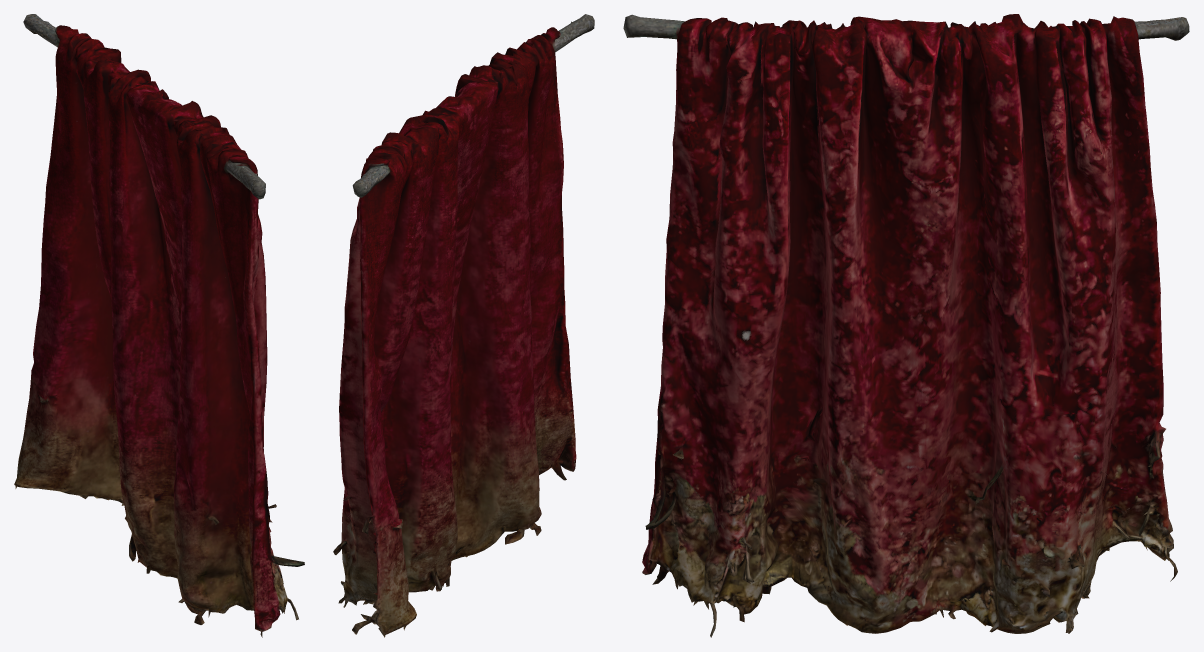
3 views of the same model, side by side, from view 1: azimuth 30°, elevation 25°; view 2: azimuth 150°, elevation 25°; view 3: azimuth 270°, elevation 25° (orthographic). The views are drawn at different scales.
Parts seen in each view (by area): view 1: tripo_node_589fa776-7dce-4e3a-a4ec-b9c394ed2391; view 2: tripo_node_589fa776-7dce-4e3a-a4ec-b9c394ed2391; view 3: tripo_node_589fa776-7dce-4e3a-a4ec-b9c394ed2391.
Part boxes in pixels (x1,y1,x2,y2): tripo_node_589fa776-7dce-4e3a-a4ec-b9c394ed2391: (14,14,304,637); tripo_node_589fa776-7dce-4e3a-a4ec-b9c394ed2391: (333,14,594,637); tripo_node_589fa776-7dce-4e3a-a4ec-b9c394ed2391: (623,14,1189,637).
Size of the model in its own units: 0.2281 by 1 by 0.8604.
Materials: 1 (1 with a texture image).
